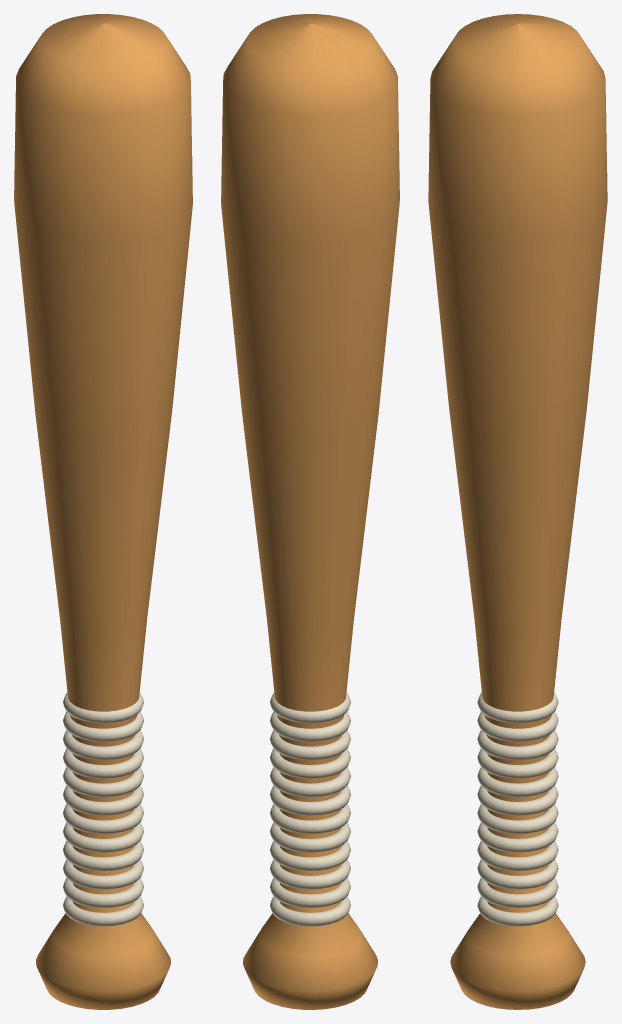
The model's file is BAT.glb.
3 views of the same model, side by side, from view 1: azimuth 30°, elevation 25°; view 2: azimuth 150°, elevation 25°; view 3: azimuth 270°, elevation 25° (orthographic).
Visible parts, largest first — view 1: BAT; view 2: BAT; view 3: BAT.
Boxes of the visible parts, bbox=[...] form: BAT: bbox=[14, 14, 192, 1009]; BAT: bbox=[221, 14, 399, 1009]; BAT: bbox=[428, 14, 607, 1009].
Size of the model in its own units: 0.172 by 1.02 by 0.172.
Materials: 2 (2 with a texture image).
